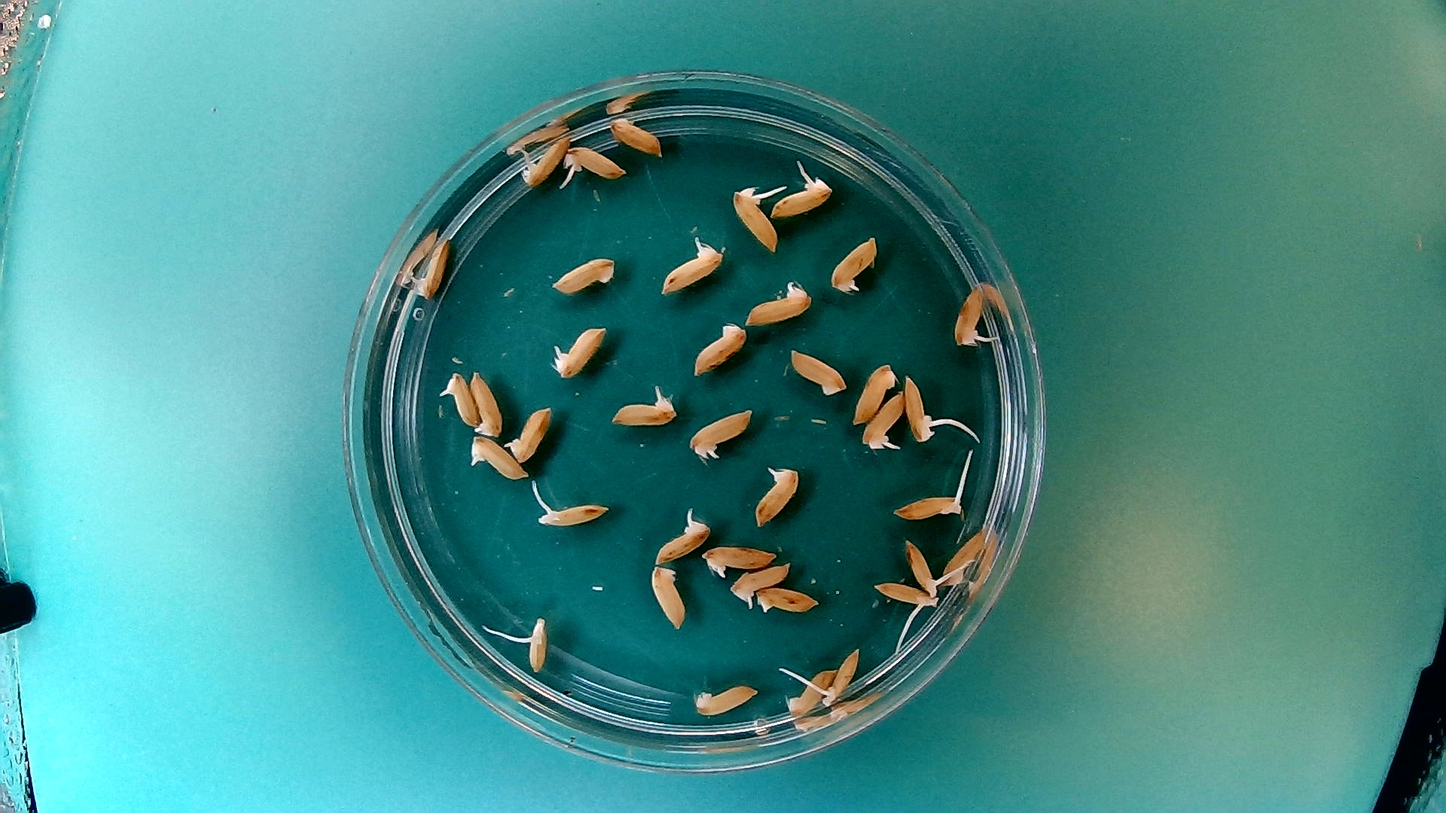no: (689, 318, 751, 378), (784, 346, 849, 398), (548, 252, 620, 297), (850, 358, 898, 425), (648, 559, 688, 633), (939, 525, 988, 584), (608, 112, 667, 159), (691, 681, 760, 719), (785, 666, 834, 719), (468, 368, 502, 440), (755, 584, 822, 617)
yes: (683, 404, 757, 461), (901, 536, 972, 594), (728, 181, 781, 255), (751, 458, 803, 528), (548, 321, 609, 380), (662, 244, 728, 298), (743, 277, 817, 325), (826, 231, 881, 294), (651, 510, 713, 563), (515, 132, 572, 189), (903, 367, 944, 446), (726, 560, 794, 607), (610, 383, 680, 428), (410, 232, 453, 305), (859, 387, 906, 452), (467, 434, 528, 483), (701, 540, 778, 577), (507, 403, 555, 462), (561, 140, 627, 182), (952, 282, 993, 349), (766, 178, 831, 219), (438, 368, 480, 429), (822, 641, 861, 703), (890, 491, 966, 522), (871, 578, 938, 613), (536, 502, 609, 528), (526, 617, 551, 676)
